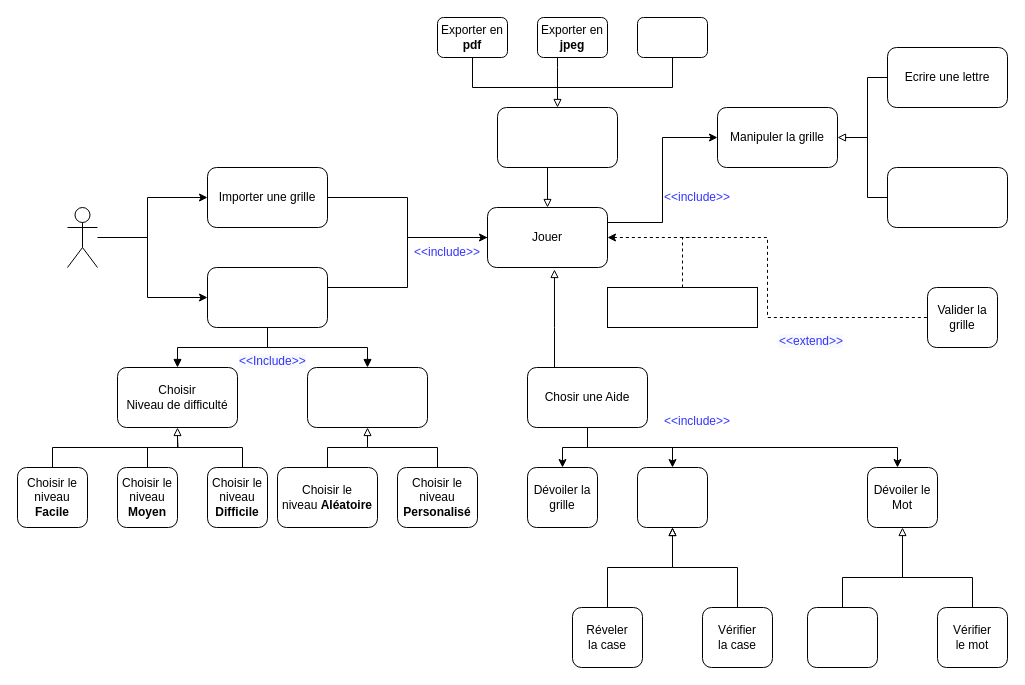
The diagram is 1025 pixels wide and 685 high, and some of its shapes have lost their labels. The box of each missing label's shape, as (x1, y1, x2, y2) in pixels:
Choisir un Theme: (306, 366, 428, 428)
Client: (66, 206, 98, 268)
Condition : {Grille remplie}: (606, 286, 758, 328)
Dévoiler la case: (636, 466, 708, 528)
Exporter en txt: (636, 16, 708, 58)
Exporter la grille: (496, 106, 618, 168)
Generer une grille: (206, 266, 328, 328)
Réveler le mot: (806, 606, 878, 668)
Supprimer une lettre: (886, 166, 1008, 228)
